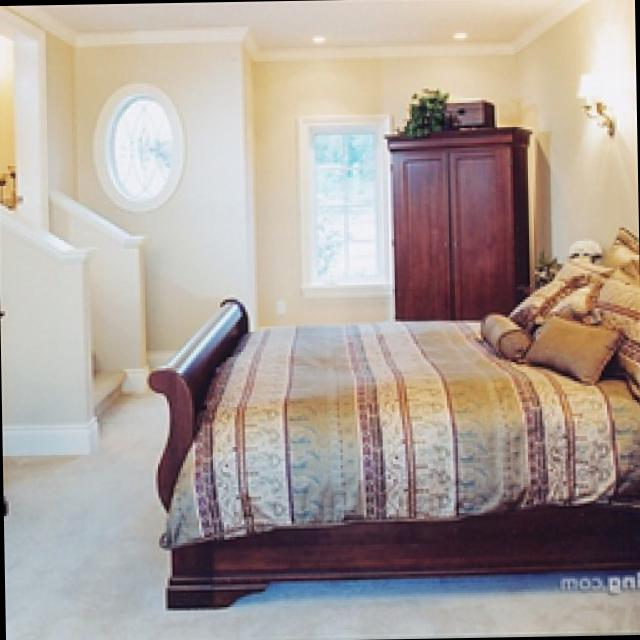2001: (304, 114, 399, 293), (94, 83, 184, 208)
bed -occluded-: (151, 225, 640, 607)
box contants: (436, 95, 501, 127)
carpet floor: (10, 391, 640, 640)
ceiling beam: (36, 0, 570, 46)
ceiling lamps: (315, 30, 330, 38), (453, 30, 475, 35)
door bars: (0, 8, 46, 222)
lamp crop: (576, 70, 614, 130)
pillow occluded: (523, 311, 625, 385), (598, 275, 640, 398), (483, 312, 535, 357)
plant -x: (402, 85, 451, 133)
wall outlets: (277, 296, 287, 313)
wardrobe part: (387, 121, 539, 319)
